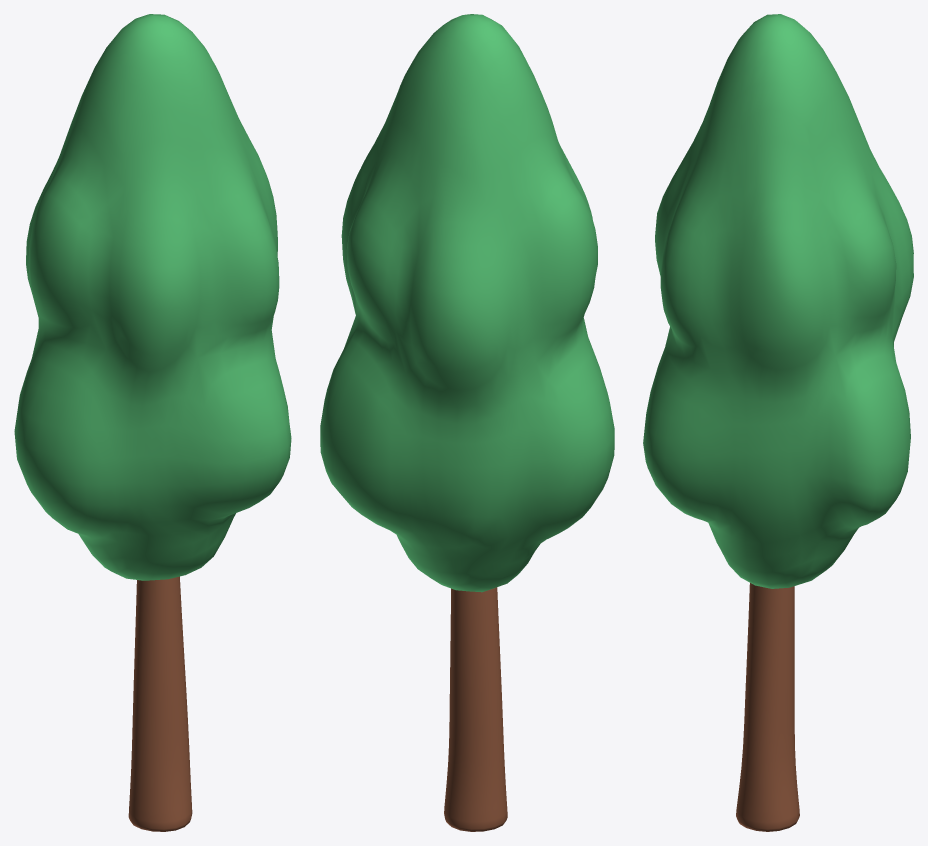
Rendered from Tree_E_02.fbx.
3 renders of one model, left to right at view 1: azimuth 30°, elevation 25°; view 2: azimuth 150°, elevation 25°; view 3: azimuth 270°, elevation 25°, orthographic.
Visible parts, largest first — view 1: Tree_E_02_LOD0; view 2: Tree_E_02_LOD0; view 3: Tree_E_02_LOD0.
Part boxes in pixels (bbox=[...]): Tree_E_02_LOD0: bbox=[14, 14, 291, 831]; Tree_E_02_LOD0: bbox=[320, 14, 614, 831]; Tree_E_02_LOD0: bbox=[643, 14, 913, 831].
Size of what is drawn, in the model's own units: 538 by 1634 by 500.
